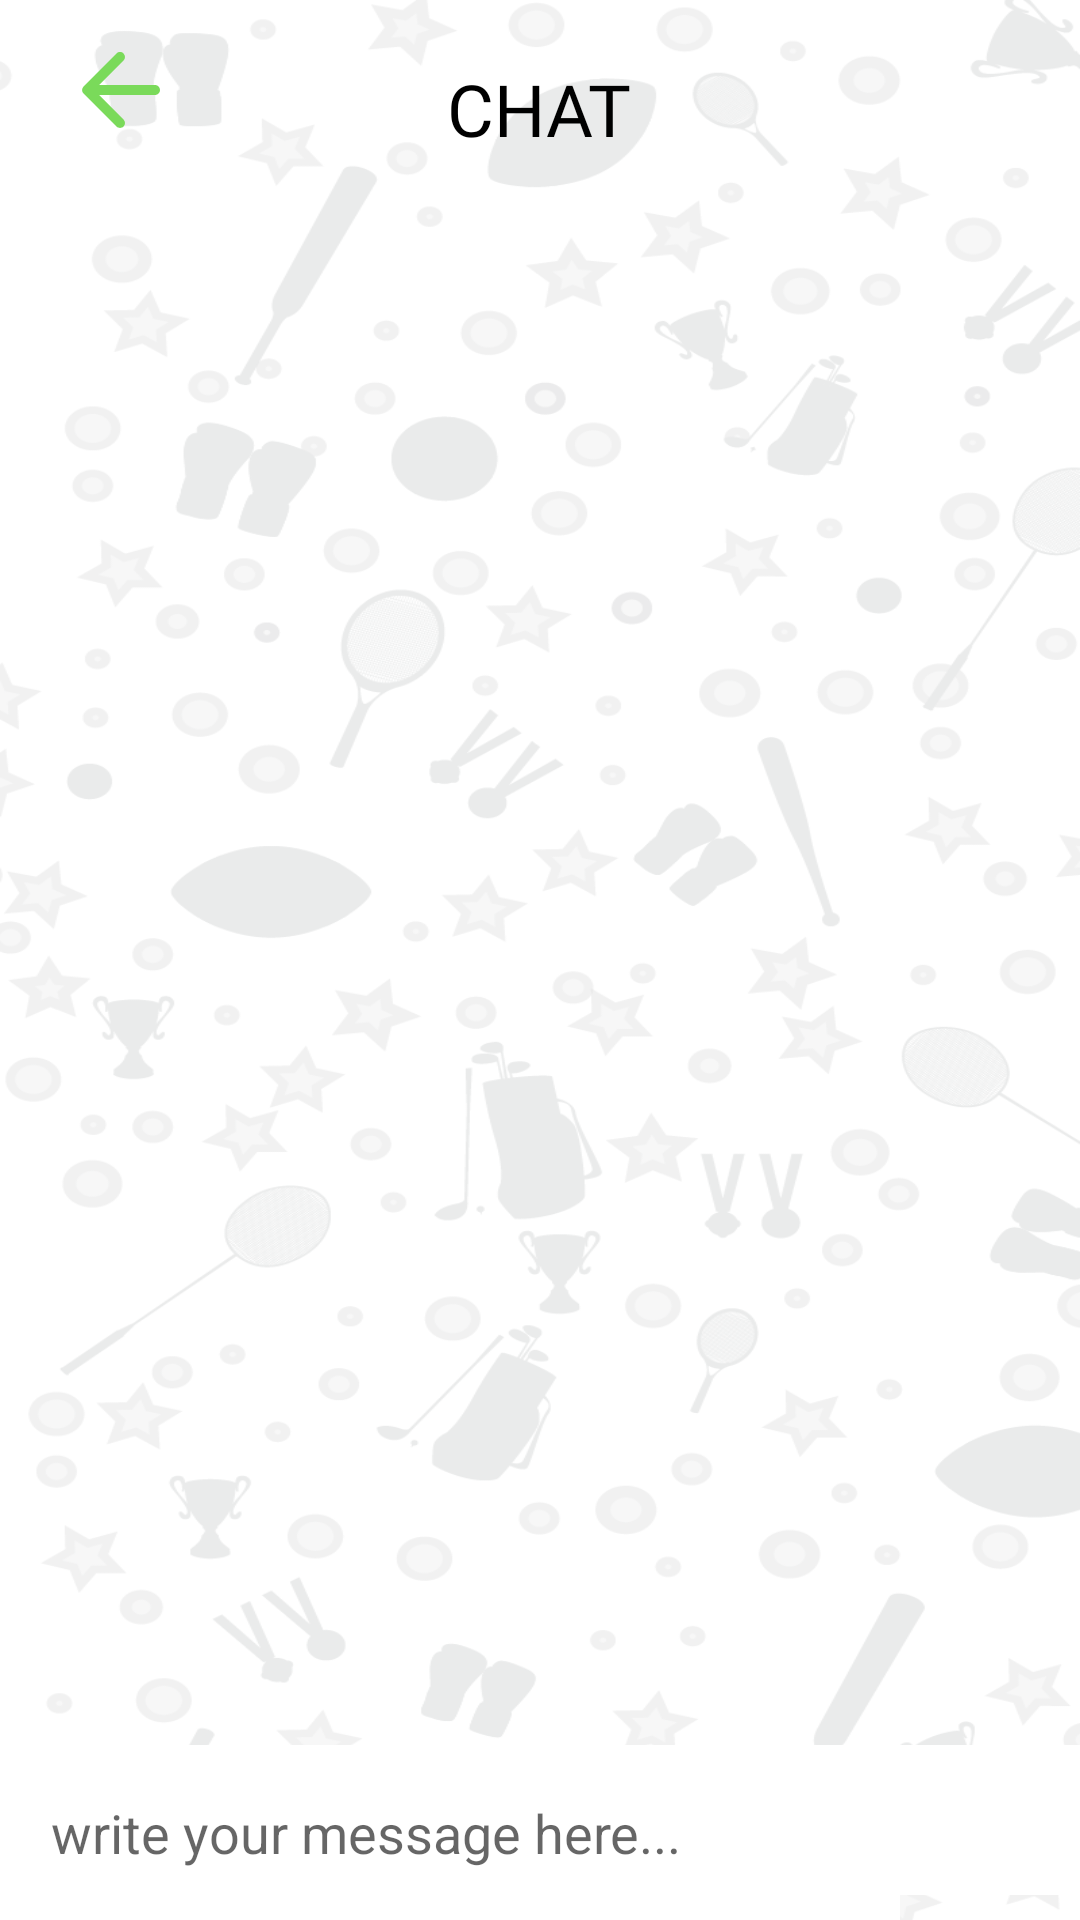

Icon bounding boxes for this 1080×1920 phone screenshot, format {"x1": x1, "y1": y1, "x2": x2, "y2": y2}:
arrow back: {"x1": 82, "y1": 52, "x2": 160, "y2": 128}
